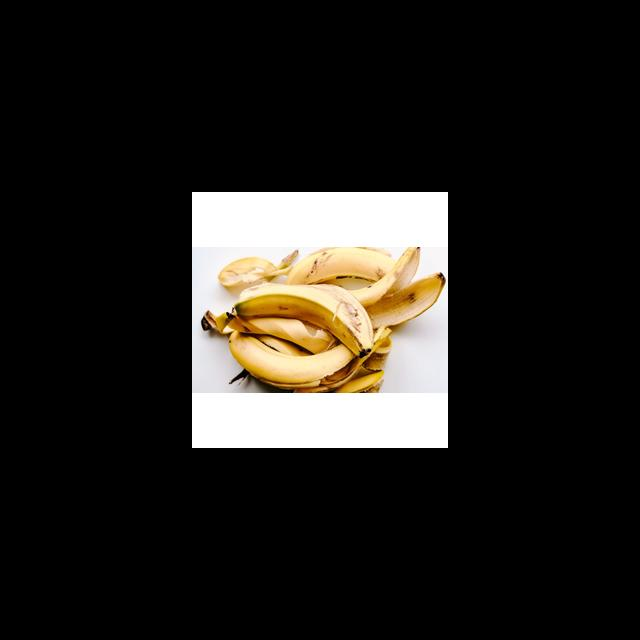food_waste: (223, 256, 448, 329), (210, 303, 388, 365), (219, 334, 380, 391)
